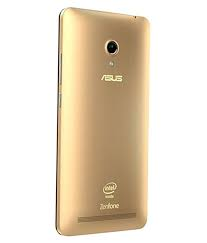asus: (50, 3, 153, 238)
